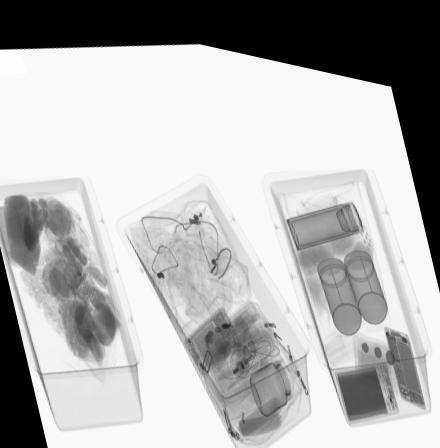Powerbank: (333, 344, 399, 404)
